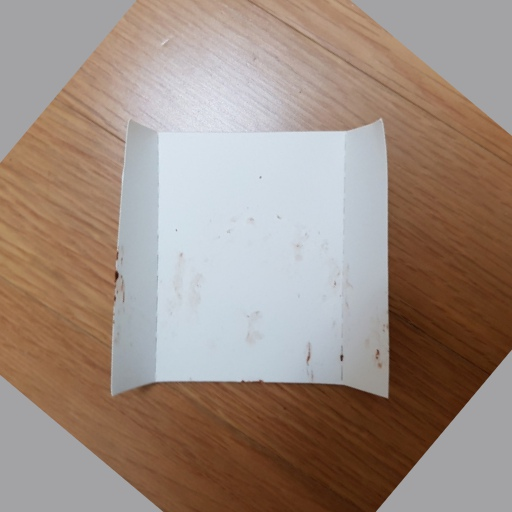Paper_3: (104, 110, 408, 421)
